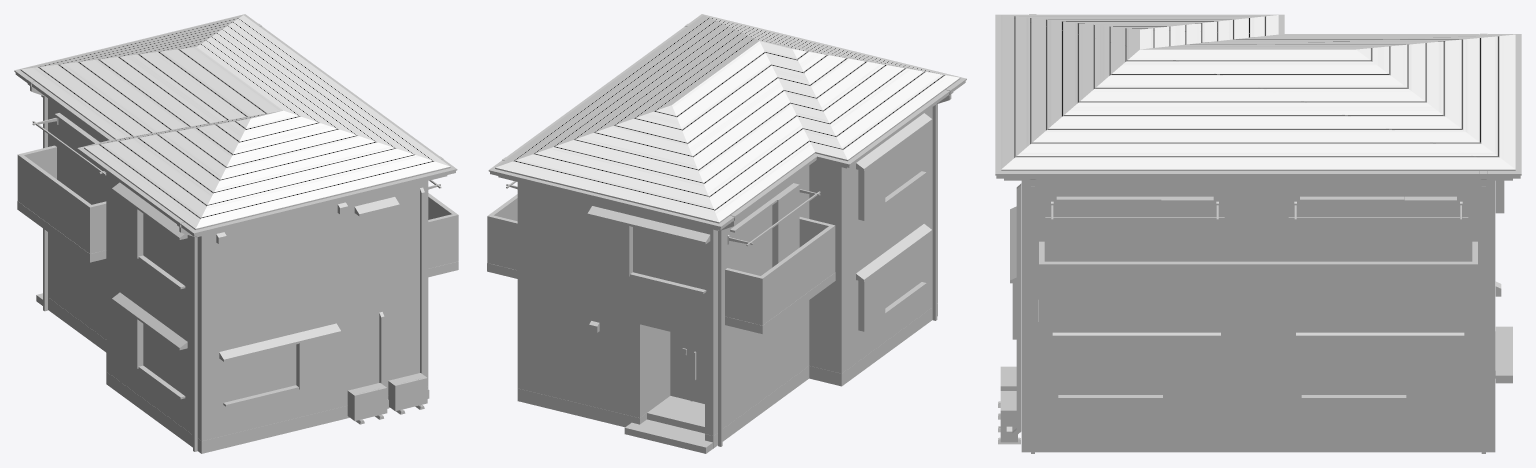
Rendered from House_2021_N.fbx.
3 views of the same model, side by side, from view 1: azimuth 30°, elevation 25°; view 2: azimuth 150°, elevation 25°; view 3: azimuth 270°, elevation 25° (orthographic). The views are drawn at different scales.
Visible parts, largest first — view 1: House_2021_N; view 2: House_2021_N; view 3: House_2021_N.
Part boxes in pixels (x1,y1,x2,y2): House_2021_N: (14, 14, 458, 453); House_2021_N: (487, 14, 966, 453); House_2021_N: (995, 14, 1521, 453).
Bounding box in the file's own units: 698 × 653 × 907.
